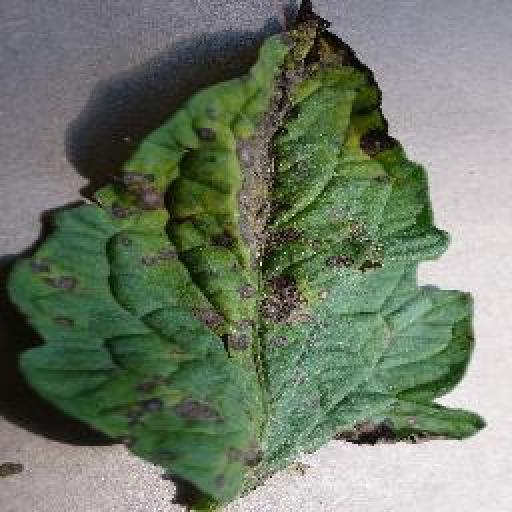Early Blight: (10, 1, 484, 512)
